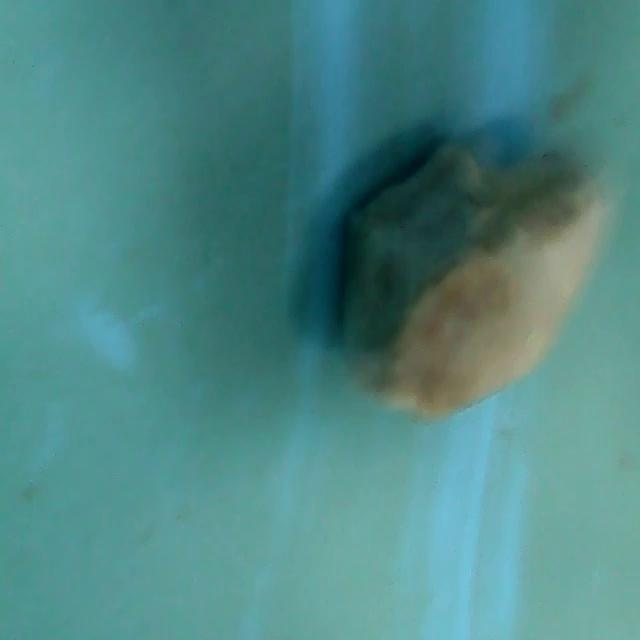rock: (332, 134, 599, 422)
